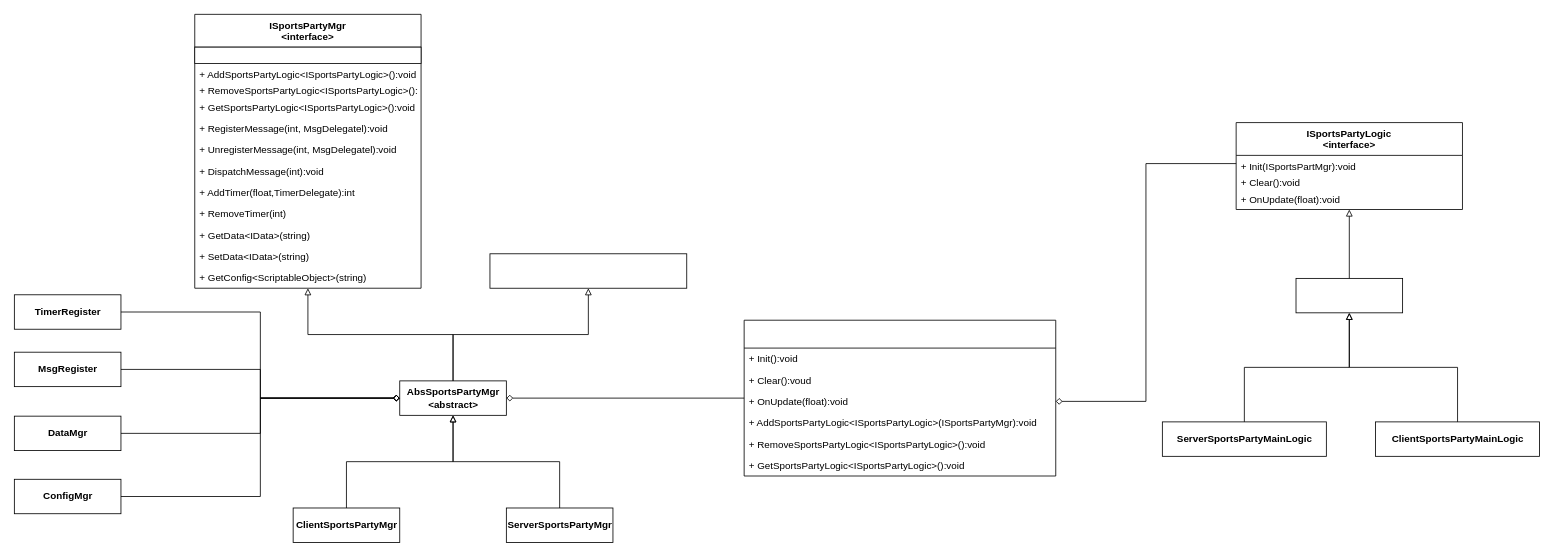
Some shapes in this 1554 by 557 pixel diagram are drawn without their labels. Here are the shapes that lost their labels. From the top down, the box of each, then its label:
(194, 46, 421, 64): + GameWorld GameWorld:Get
(489, 253, 687, 288): AbsExtendGameWorldFeature <abstract>
(1295, 278, 1403, 313): AbsSportsPartyLogic <abstract>
(743, 319, 1056, 476): SportsPartyLogicMgr
